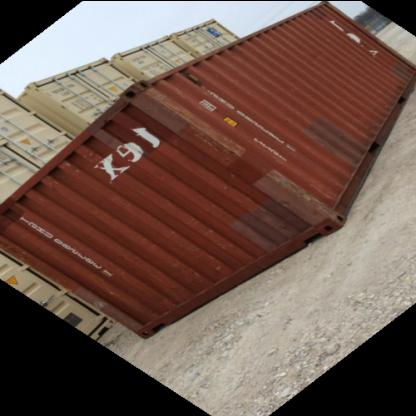Damage: (253, 166, 333, 230), (130, 77, 182, 125), (188, 121, 242, 161), (88, 296, 112, 322), (193, 221, 223, 238), (50, 158, 80, 174)
